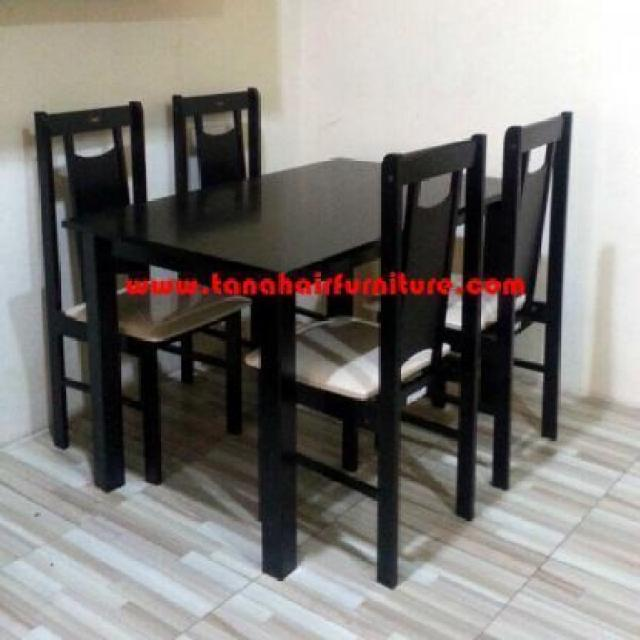tables: (58, 154, 520, 581)
